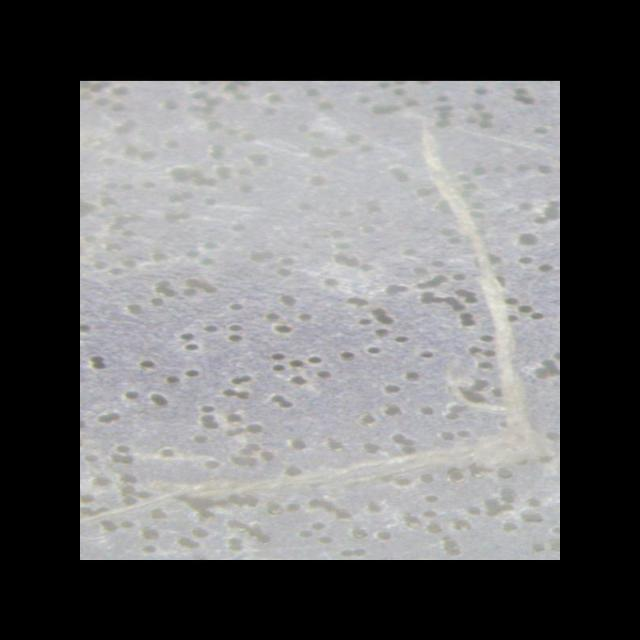Fibre: (80, 112, 548, 526)
